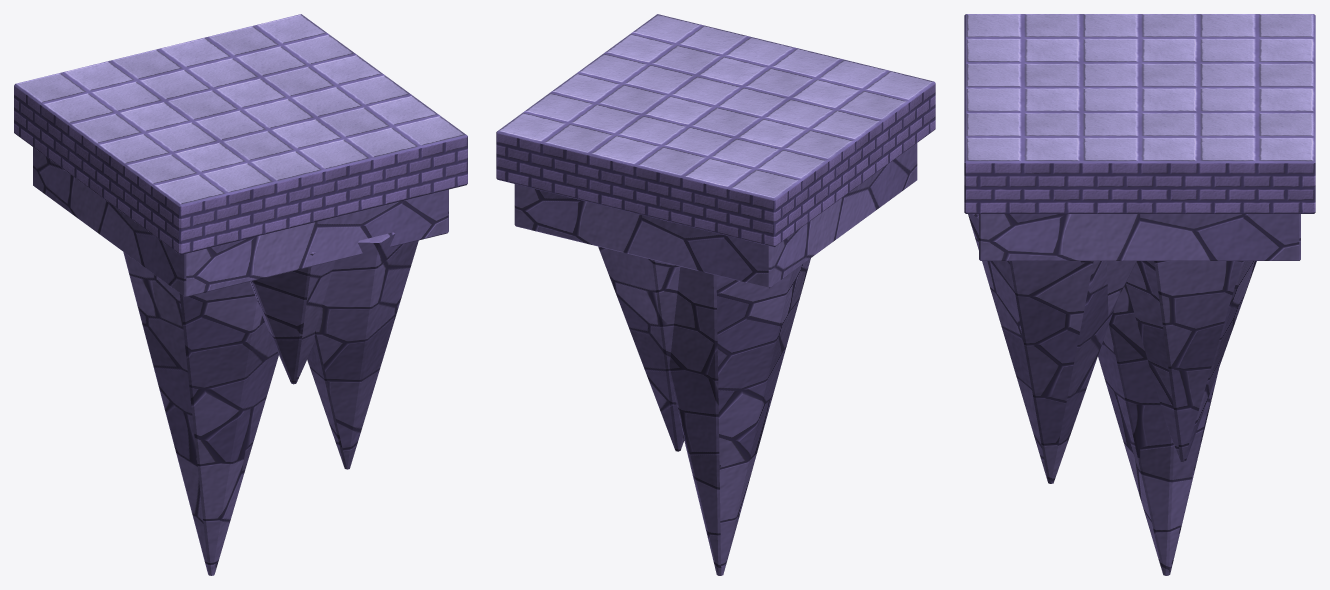
The model's file is Camino_Cruce.fbx.
The picture shows the model from 3 angles, left to right: view 1: azimuth 30°, elevation 25°; view 2: azimuth 150°, elevation 25°; view 3: azimuth 270°, elevation 25°; orthographic projection. The views are drawn at different scales.
Parts seen in each view (by area): view 1: Mod_Camino_Cruce; view 2: Mod_Camino_Cruce; view 3: Mod_Camino_Cruce.
Boxes of the visible parts, bbox=[...] form: Mod_Camino_Cruce: bbox=[14, 14, 467, 575]; Mod_Camino_Cruce: bbox=[496, 14, 935, 575]; Mod_Camino_Cruce: bbox=[964, 14, 1315, 575].
Bounding box in the file's own units: 6 × 9.34 × 6.
